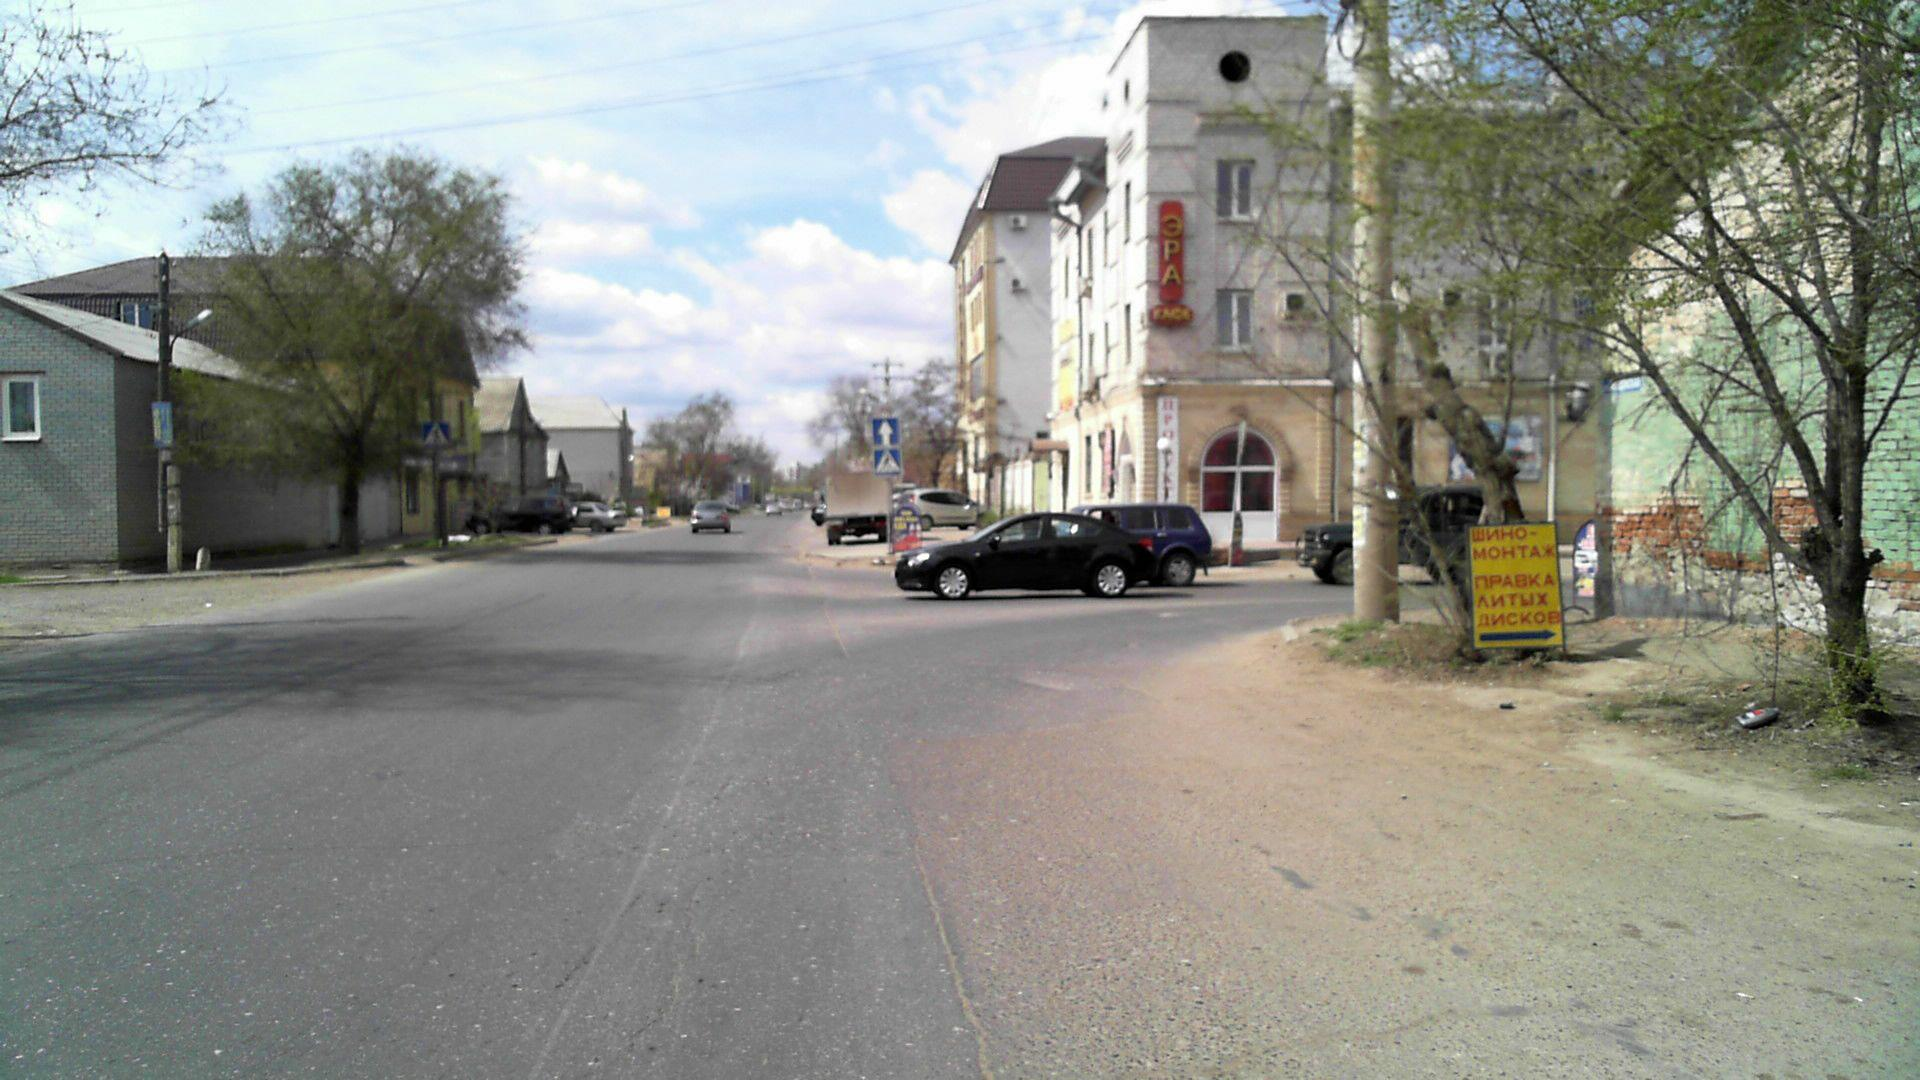5_19_1: (872, 447, 906, 477)
5_19_2: (421, 421, 451, 451)
5_5: (872, 419, 898, 447)
